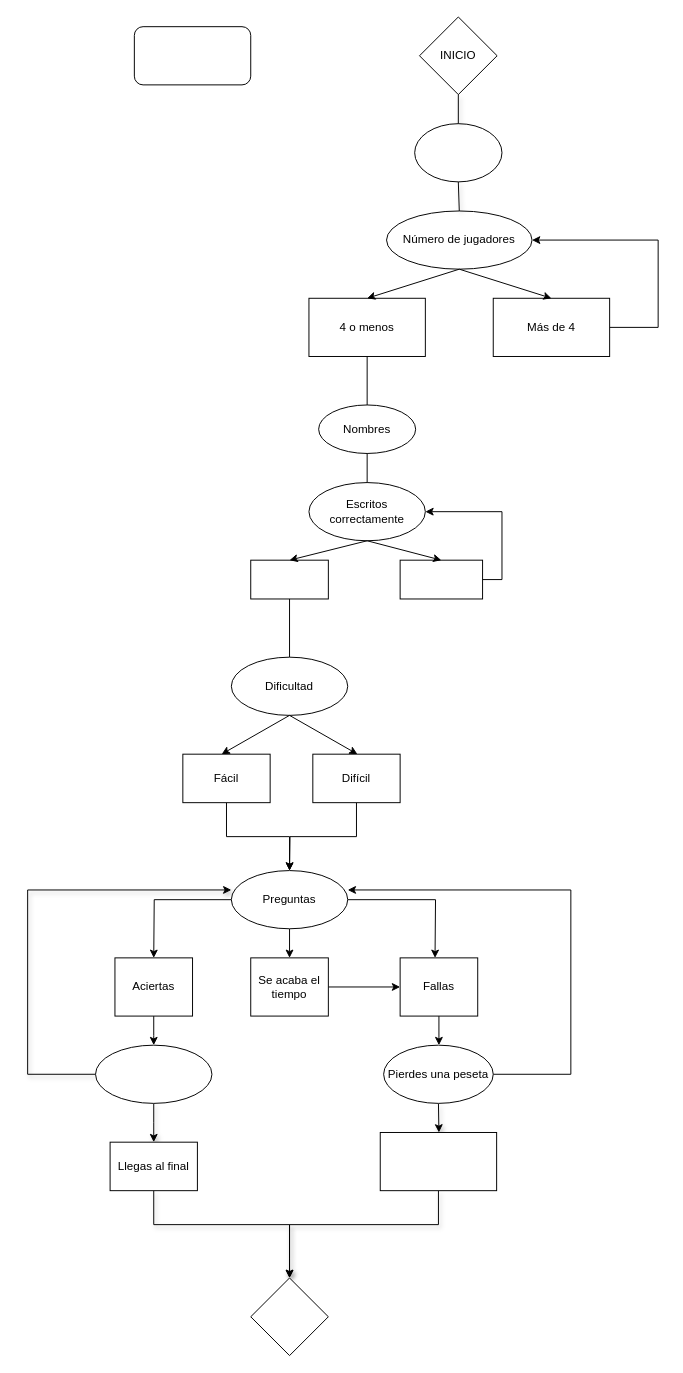
Image size: 683x1373. Some labels were removed from this diagram. The shapes that lost their labels are listed below. From the top down, each one's centre as x and y in pixels, then its label:
At point 192,55: "ALT-F4".
At point 458,152: "Normas".
At point 289,579: "Sí".
At point 441,579: "No".
At point 153,1073: "Obtienes una peseta".
At point 438,1161: "Pierdes todas las pesetas".
At point 289,1316: "FIN".
